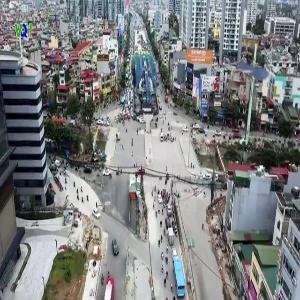drone: (201, 29, 297, 125)
